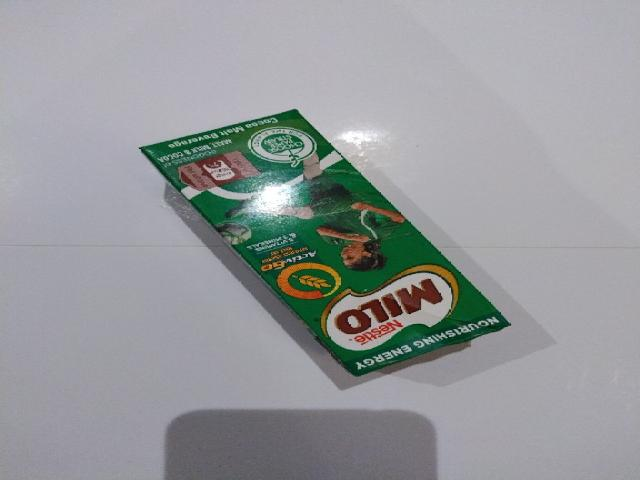drink_box: (140, 110, 508, 375)
